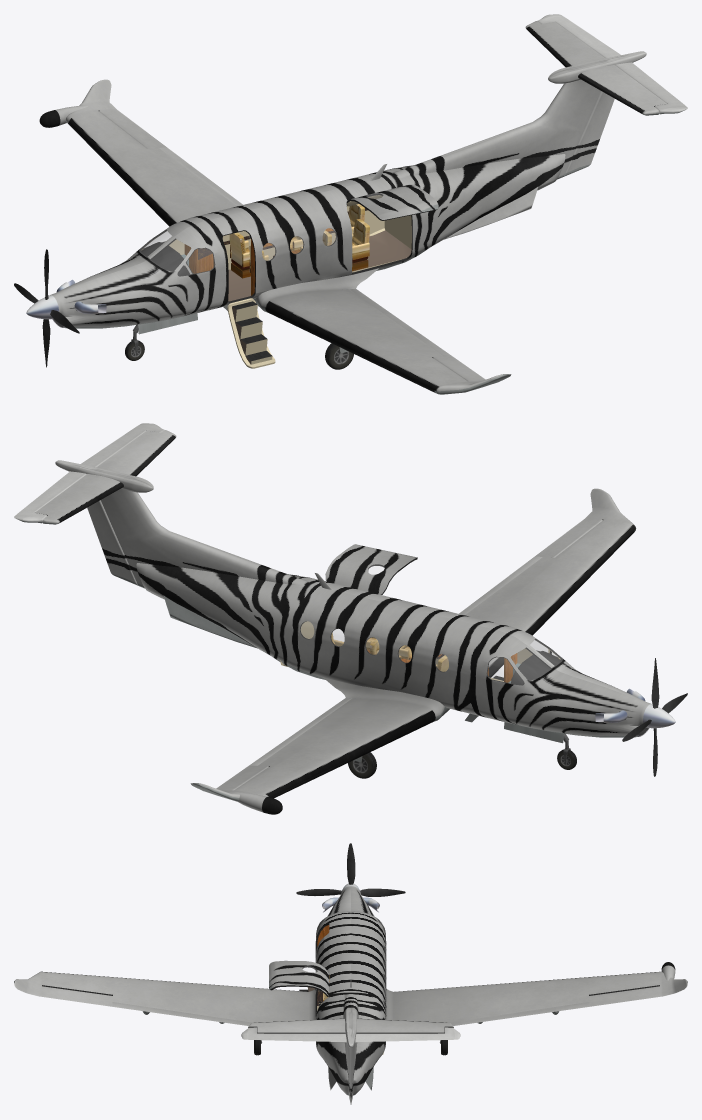
Rendered from pilatus_pc_1247.glb.
3 views of the same model, one above another, from view 1: azimuth 30°, elevation 25°; view 2: azimuth 150°, elevation 25°; view 3: azimuth 270°, elevation 25° (orthographic). The views are drawn at different scales.
Parts seen in each view (by area): view 1: Object_4, Object_3, Object_17, Object_5, Object_7, Object_22, Object_20, Object_16, Object_6, Object_2; view 2: Object_4, Object_3, Object_22, Object_7, Object_5, Object_17, Object_6, Object_2, Object_20; view 3: Object_4, Object_3, Object_5, Object_7, Object_17.
Part boxes in pixels (x1=…): Object_4: x1=14, y1=14, x2=687, y2=381; Object_3: x1=53, y1=79, x2=655, y2=394; Object_17: x1=139, y1=206, x2=412, y2=368; Object_5: x1=131, y1=147, x2=537, y2=356; Object_7: x1=26, y1=51, x2=646, y2=319; Object_22: x1=139, y1=193, x2=382, y2=276; Object_20: x1=229, y1=204, x2=369, y2=278; Object_16: x1=184, y1=193, x2=437, y2=295; Object_6: x1=125, y1=340, x2=353, y2=369; Object_2: x1=141, y1=242, x2=190, y2=275; Object_4: x1=14, y1=423, x2=687, y2=790; Object_3: x1=39, y1=488, x2=648, y2=801; Object_22: x1=300, y1=564, x2=562, y2=685; Object_7: x1=55, y1=460, x2=675, y2=814; Object_5: x1=163, y1=556, x2=570, y2=765; Object_17: x1=280, y1=621, x2=562, y2=685; Object_6: x1=348, y1=749, x2=576, y2=778; Object_2: x1=508, y1=651, x2=560, y2=684; Object_20: x1=331, y1=632, x2=448, y2=671; Object_4: x1=42, y1=843, x2=659, y2=1095; Object_3: x1=14, y1=971, x2=687, y2=1104; Object_5: x1=112, y1=1002, x2=589, y2=1090; Object_7: x1=322, y1=883, x2=675, y2=1047; Object_17: x1=299, y1=918, x2=386, y2=1054.
Bounding box in the file's own units: 14.39 × 4.19 × 16.21.
Materials: 16 (14 with a texture image).
